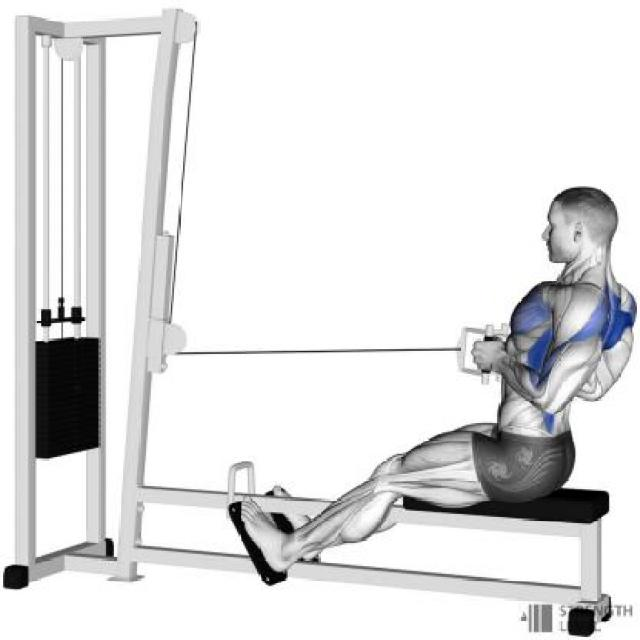Seated Cable Rows: (8, 8, 634, 629)
